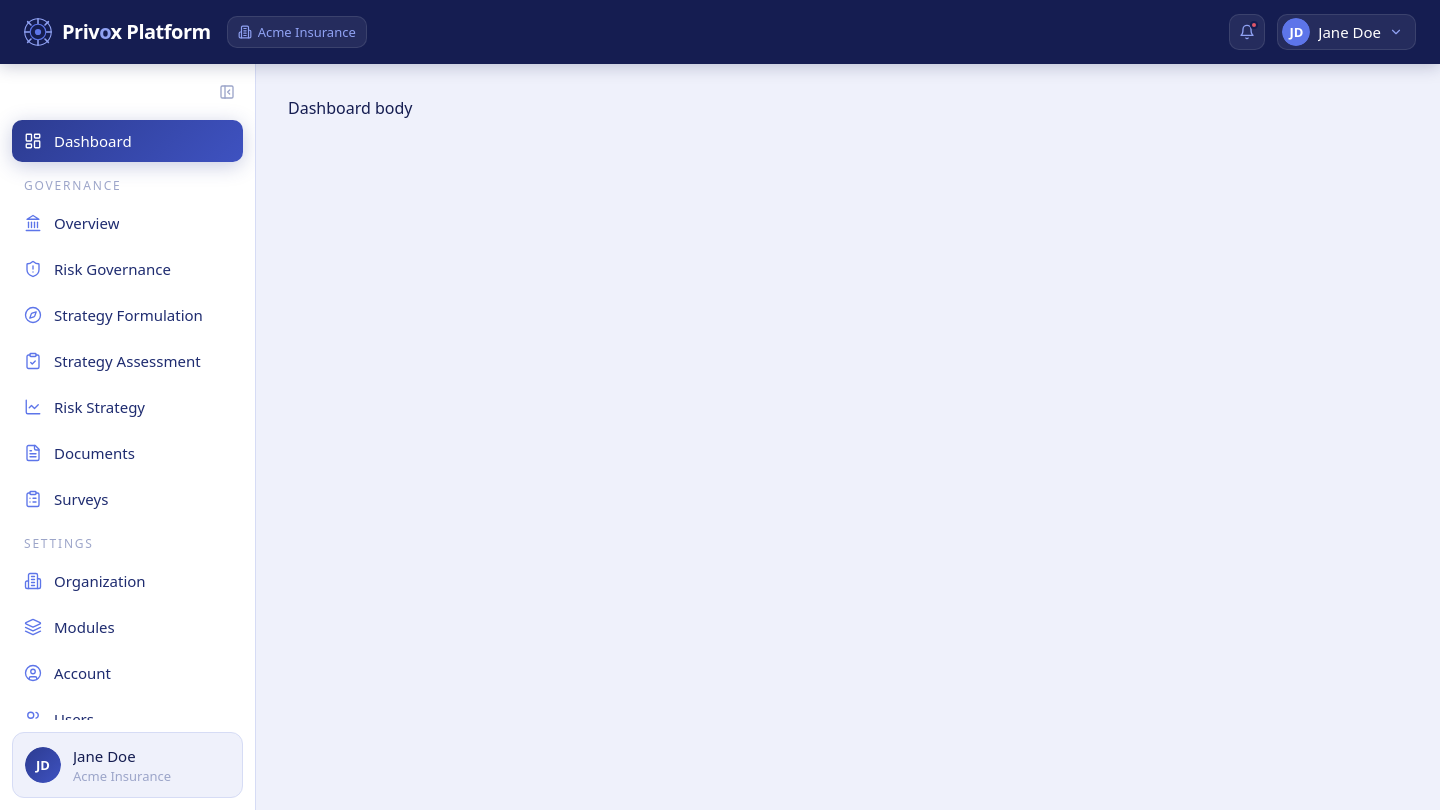
TenantLayout navigation › labels the notifications panel as sample content
Click the button named "Notifications" at (1247, 32), box [1229,14,1265,50]
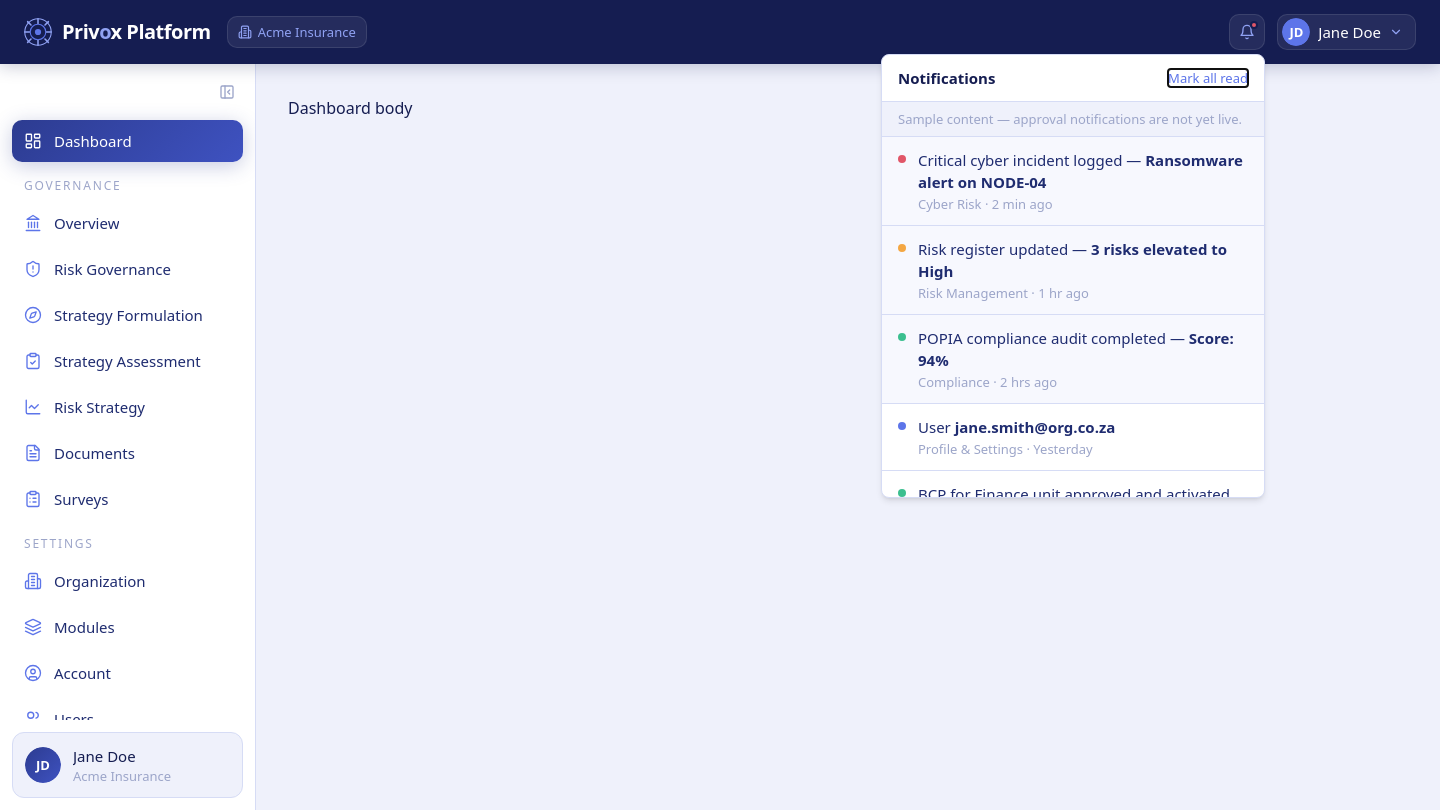
Now the text "Sample content — approval notifications are not yet live." is shown, box [882,101,1264,136]
